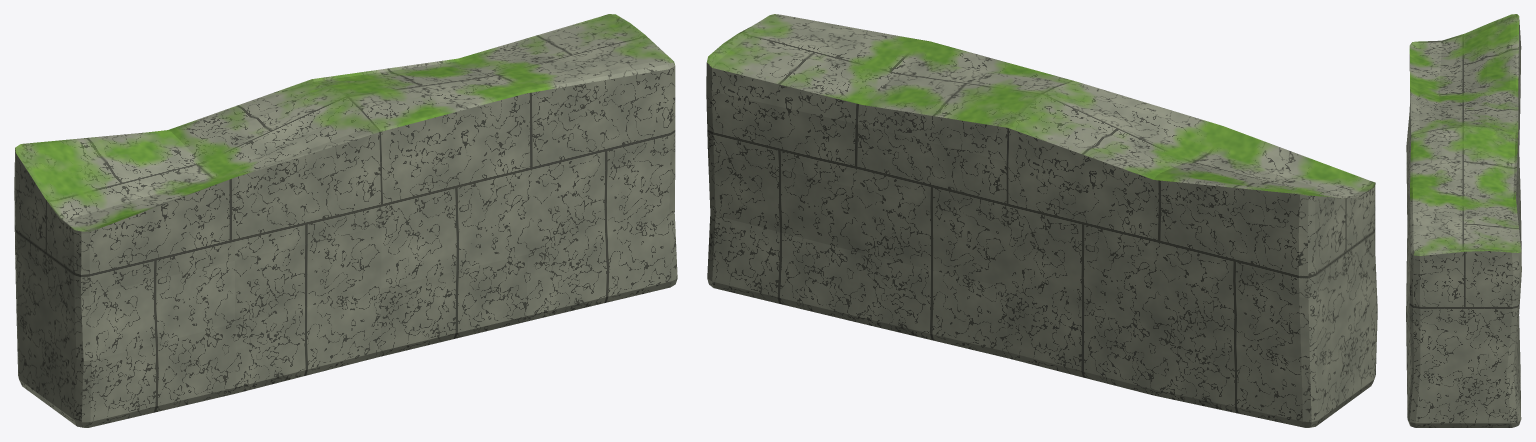
File: Ruin_Wall.fbx
The picture shows the model from 3 angles, left to right: view 1: azimuth 30°, elevation 25°; view 2: azimuth 150°, elevation 25°; view 3: azimuth 270°, elevation 25°; orthographic projection. The views are drawn at different scales.
Visible parts, largest first — view 1: Ruin_Wall.001; view 2: Ruin_Wall.001; view 3: Ruin_Wall.001.
Part boxes in pixels (x1,y1,x2,y2): Ruin_Wall.001: [14, 14, 677, 427]; Ruin_Wall.001: [706, 14, 1377, 427]; Ruin_Wall.001: [1406, 14, 1521, 427].
Size of the model in its own units: 3 by 1.15 by 0.6345.
